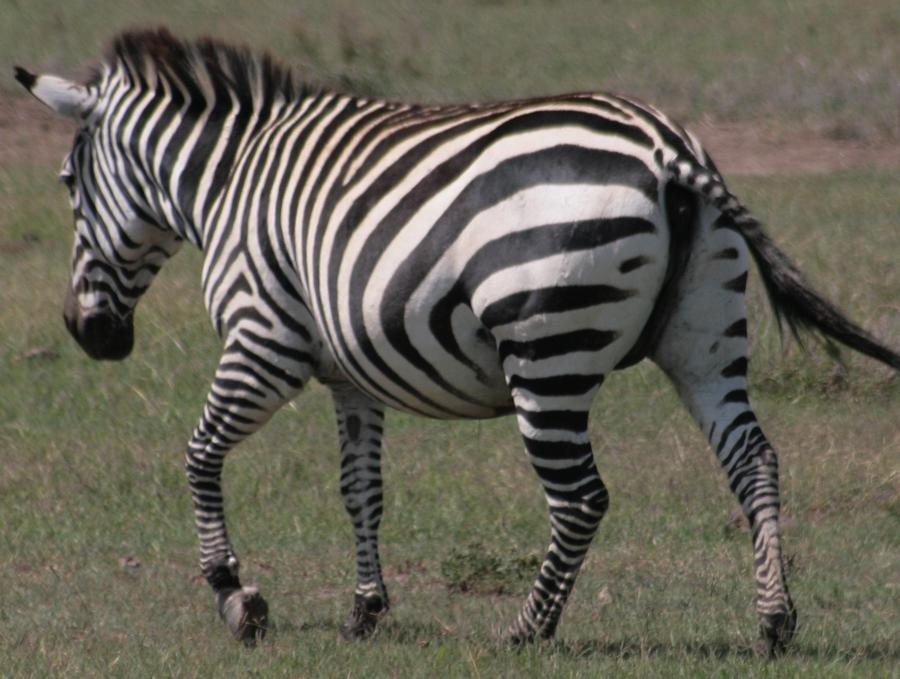zebra_plains: (197, 80, 621, 429)
